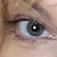eye: (27, 22, 43, 37)
